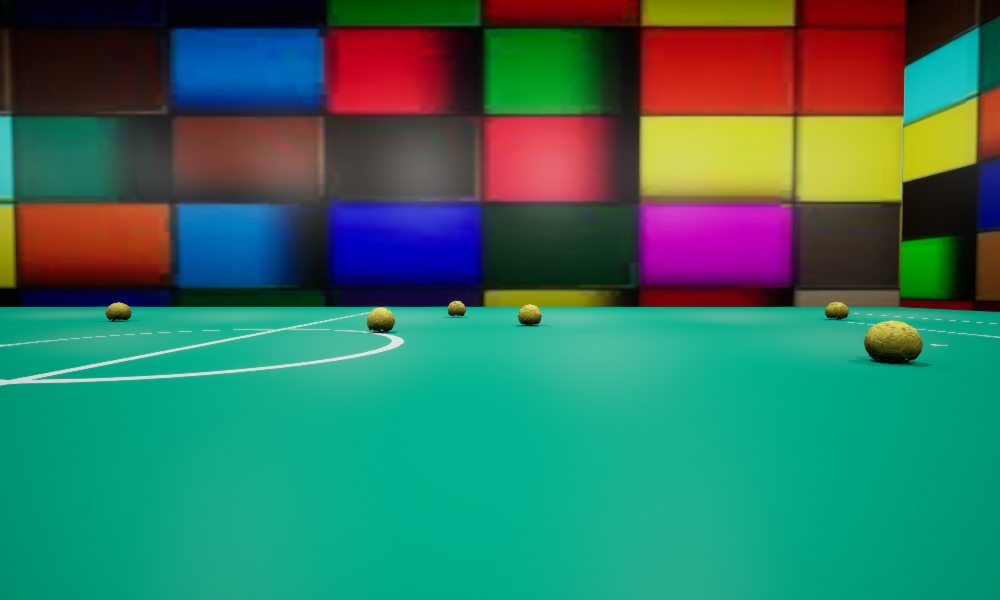b: (864, 320, 922, 363), (367, 307, 394, 331), (518, 304, 541, 325), (106, 302, 131, 320), (825, 302, 848, 319), (448, 301, 465, 315)
